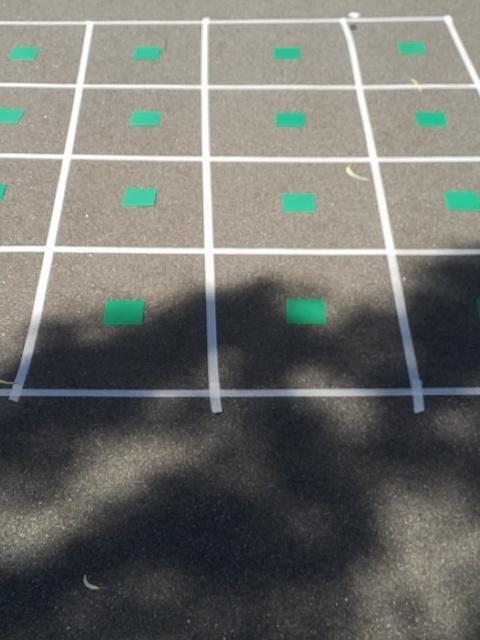weed: (99, 293, 147, 331), (281, 293, 328, 330), (441, 184, 480, 216), (121, 182, 160, 211), (279, 189, 317, 218), (412, 107, 448, 133), (126, 107, 162, 132), (272, 109, 308, 131), (7, 41, 42, 63), (130, 41, 163, 63), (272, 41, 303, 63), (398, 37, 424, 59), (0, 107, 30, 126)
